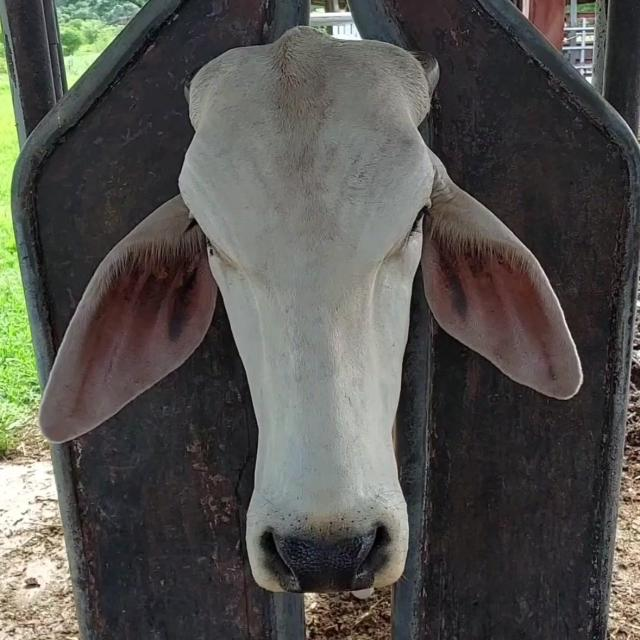cowFace: (185, 36, 433, 594)
